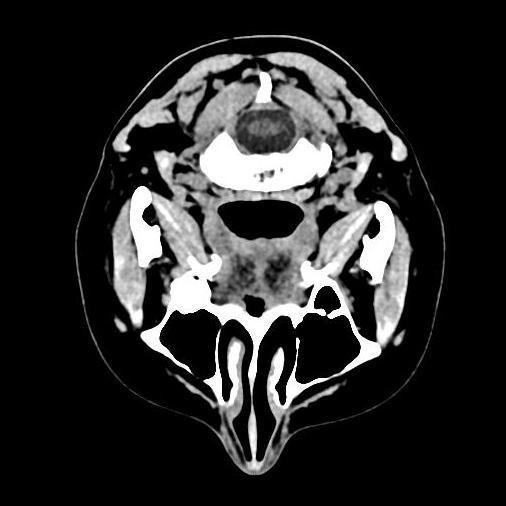Normal_Brain: (1, 18, 489, 492)
